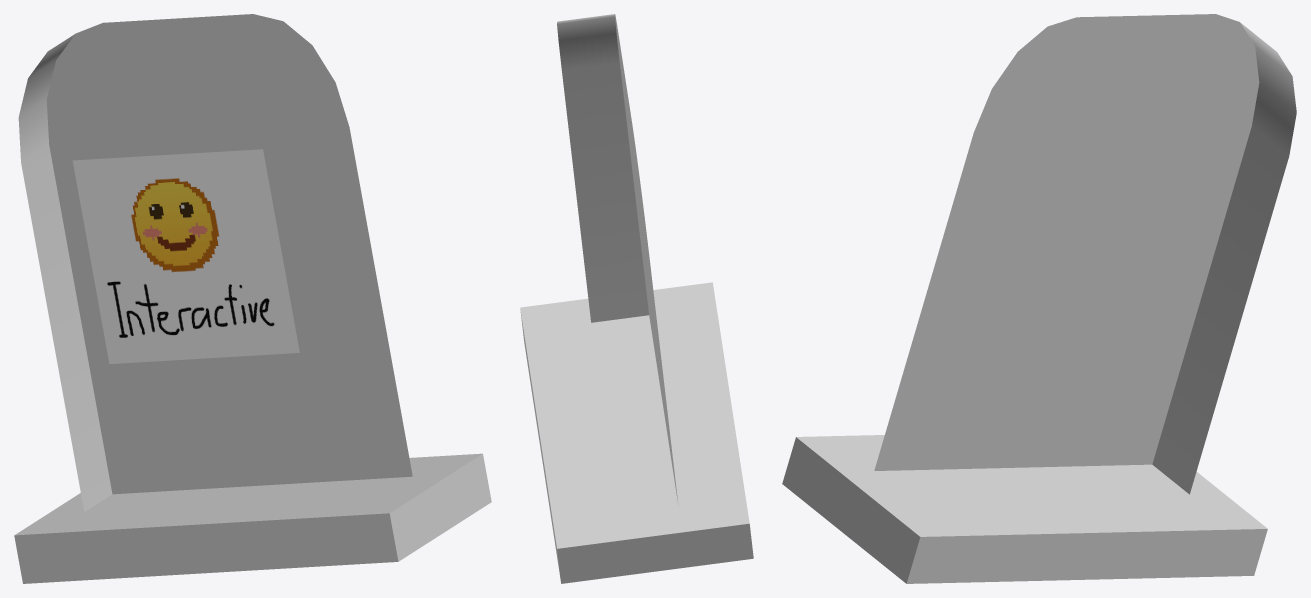
The model's file is InteractiveBlock.glb.
3 views of the same model, side by side, from view 1: azimuth 30°, elevation 25°; view 2: azimuth 150°, elevation 25°; view 3: azimuth 270°, elevation 25° (orthographic). The views are drawn at different scales.
Parts seen in each view (by area): view 1: Paint, Screenshot 2026-10-04 125950; view 2: Paint; view 3: Paint.
Part boxes in pixels (box(x1,y1,x2,y2)): Paint: box(14, 14, 491, 583); Screenshot 2026-10-04 125950: box(72, 149, 299, 363); Paint: box(520, 14, 753, 583); Paint: box(782, 14, 1296, 583).
Bounding box in the file's own units: 1.98 × 2.85 × 2.33.
Materials: 1 (1 with a texture image).
